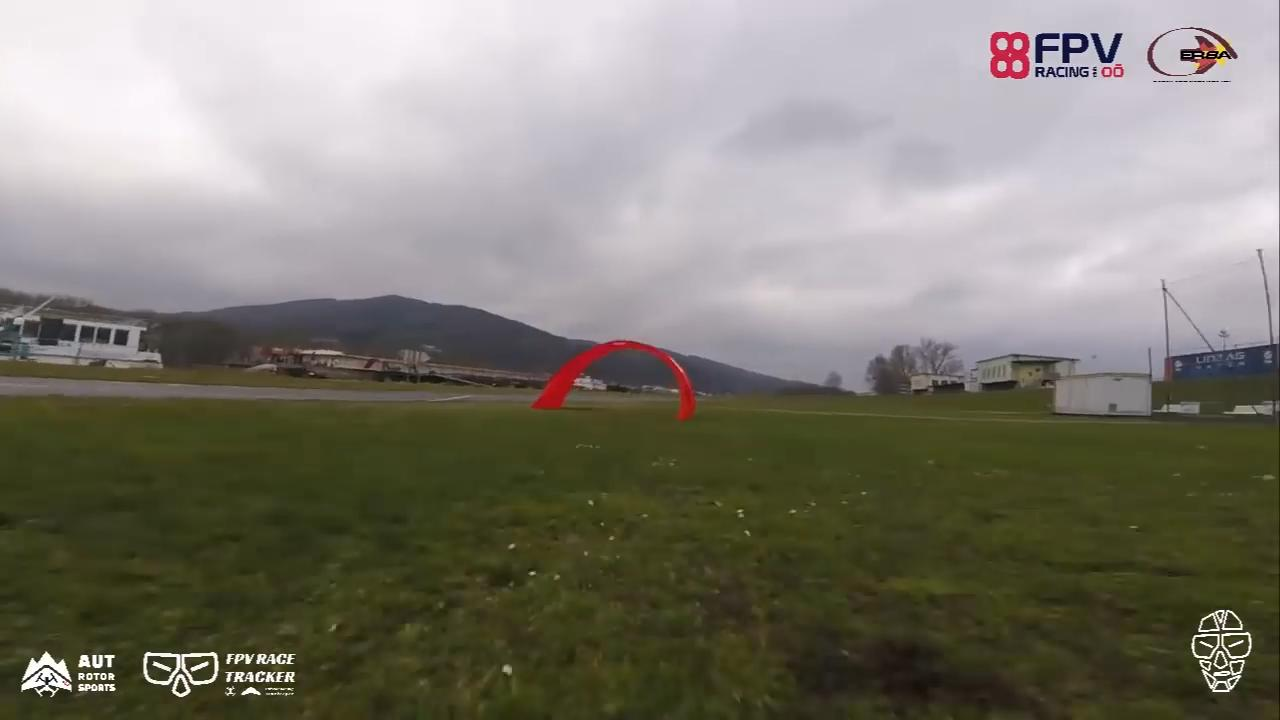gate: (534, 338, 698, 423)
